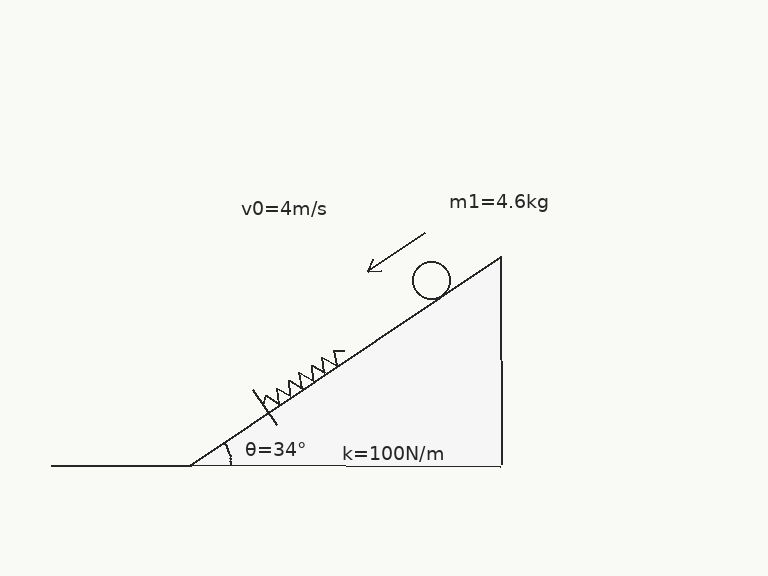ball: (410, 259, 452, 301)
ramp: (189, 254, 502, 467)
spring: (261, 347, 346, 407)
